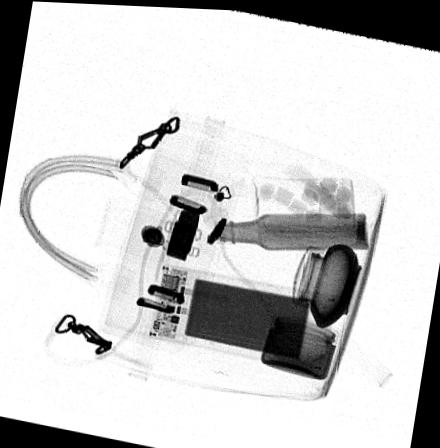Powerbank: (148, 262, 337, 371)
